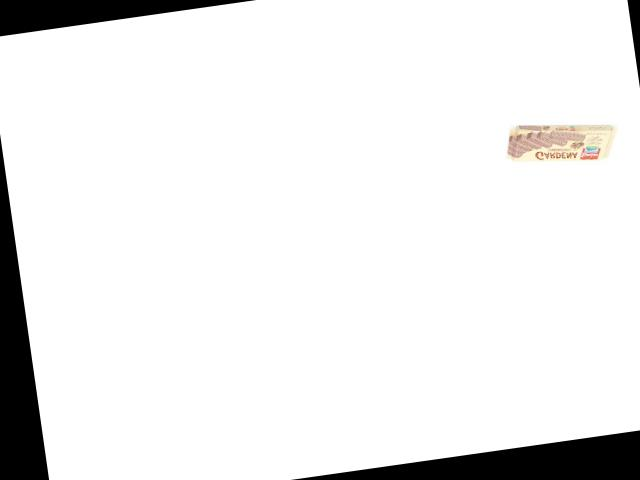chocolate: (497, 115, 625, 175)
